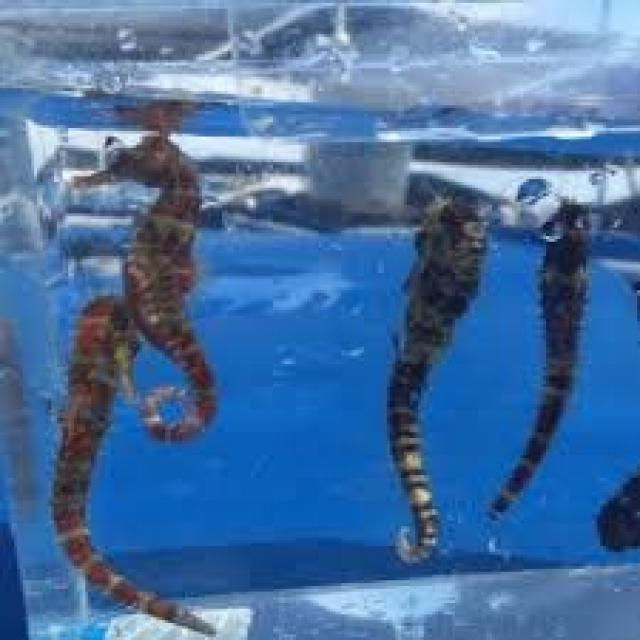SeaHorse: (52, 296, 214, 634), (71, 102, 216, 444), (387, 194, 492, 560), (489, 208, 589, 520)
